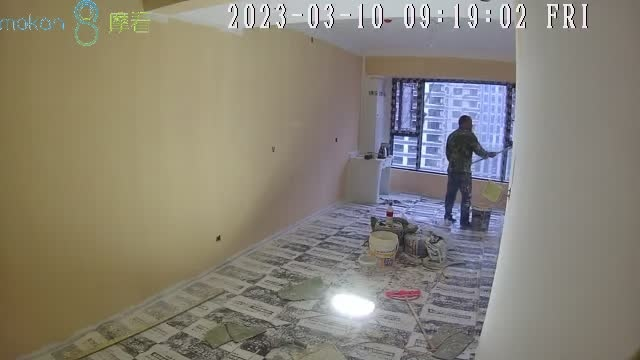people: (445, 115, 495, 230)
window: (389, 77, 512, 182)
